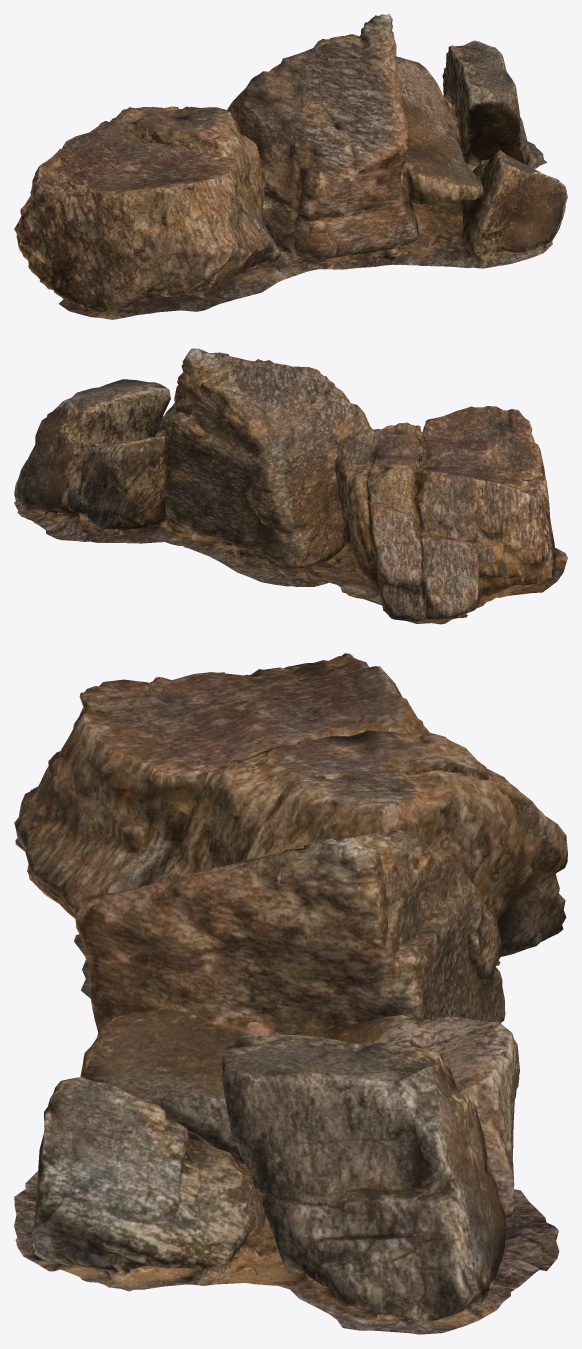
The model's file is namaqualand_boulder_02.glb.
3 views of the same model, one above another, from view 1: azimuth 30°, elevation 25°; view 2: azimuth 150°, elevation 25°; view 3: azimuth 270°, elevation 25° (orthographic). The views are drawn at different scales.
Visible parts, largest first — view 1: boulder_02; view 2: boulder_02; view 3: boulder_02.
Boxes of the visible parts, x1=… form: boulder_02: x1=14, y1=14, x2=567, y2=319; boulder_02: x1=14, y1=348, x2=567, y2=624; boulder_02: x1=14, y1=653, x2=567, y2=1334.
Size of the model in its own units: 2.53 by 0.8826 by 1.23.
1 material, 1 textured.
